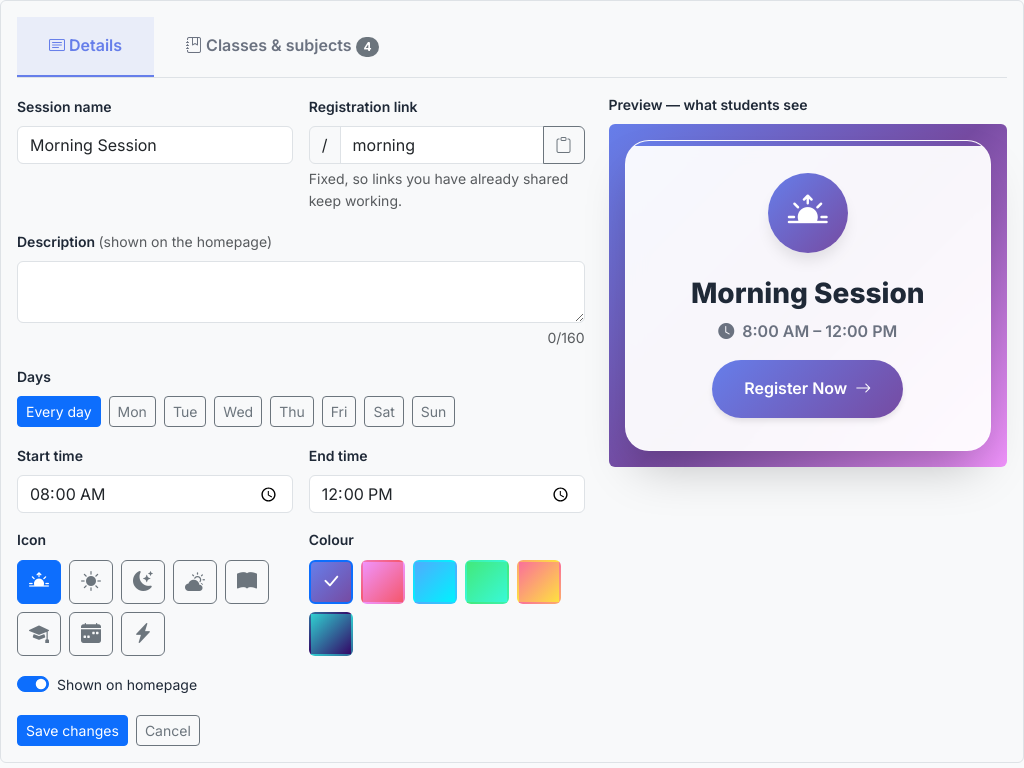
Test case: errors on the tab you are not looking at › stays put when the open tab has an error of its own
The image size is (1024, 768).
Clear the field labelled "Session name" at (155, 145), box [17,126,293,164]
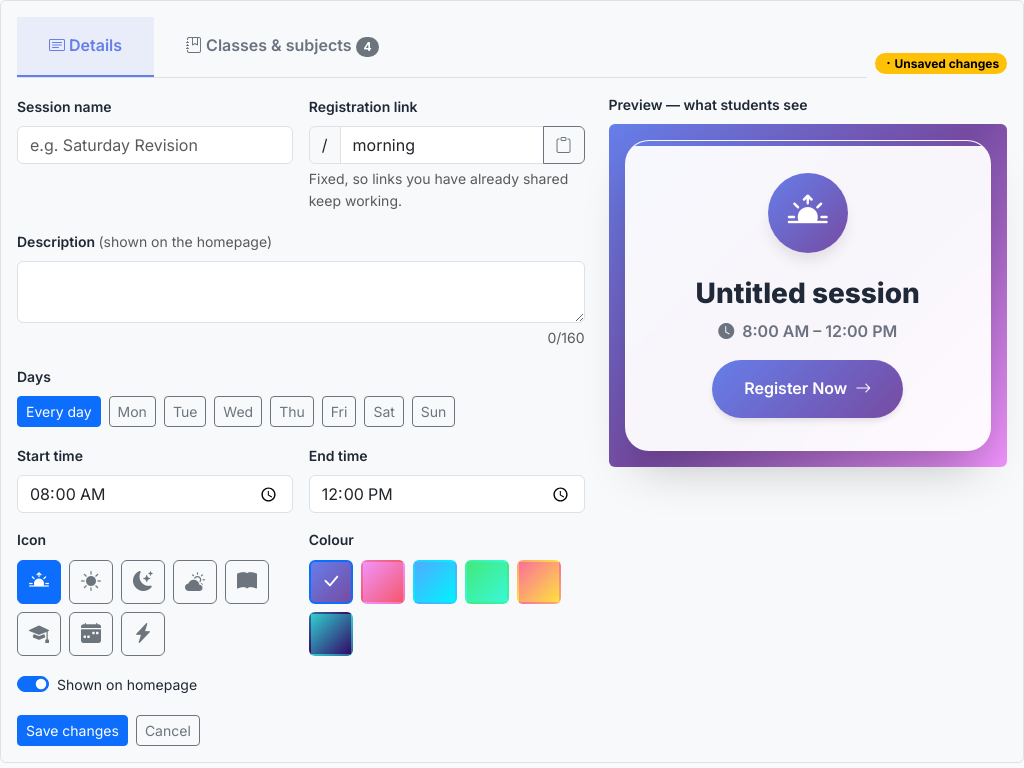
Click the tab "Classes & subjects 4" at (283, 46), box [154,17,411,75]
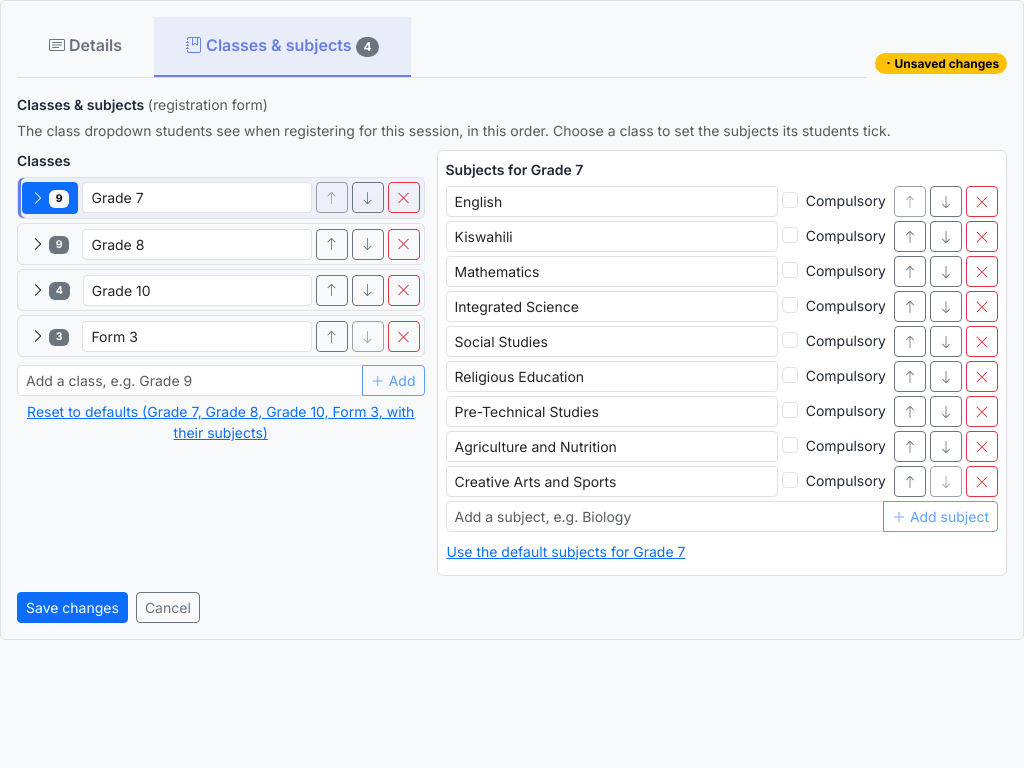
Clear the field named "Class 2" at (197, 244), box [82,228,312,260]
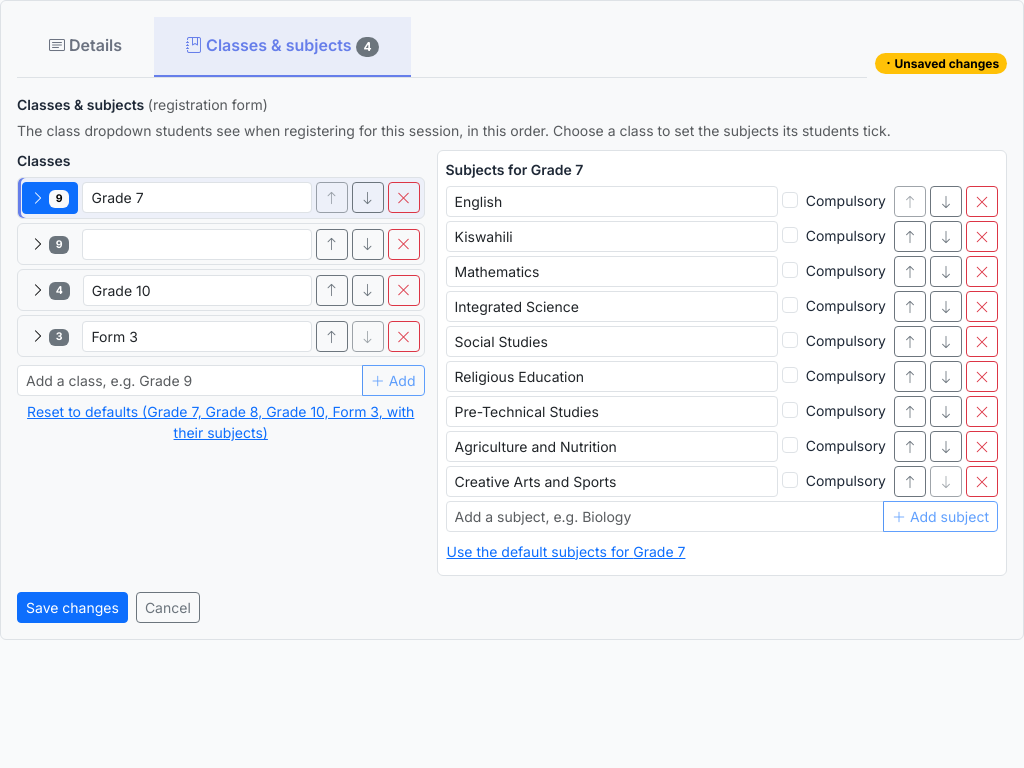
Click the button "Save changes" at (72, 607), box [17,592,128,623]
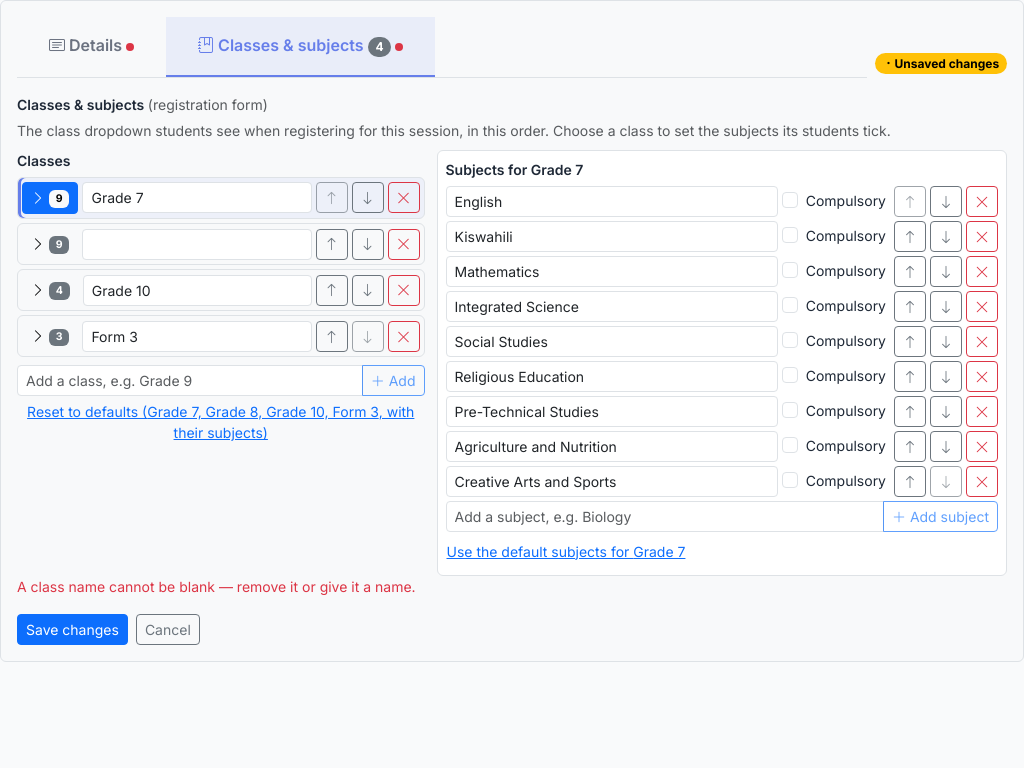
Expected: the 1st element with test id "tab-error" is shown, [126,43,134,51]
Expected: the 2nd element with test id "tab-error" is shown, [395,43,403,51]
